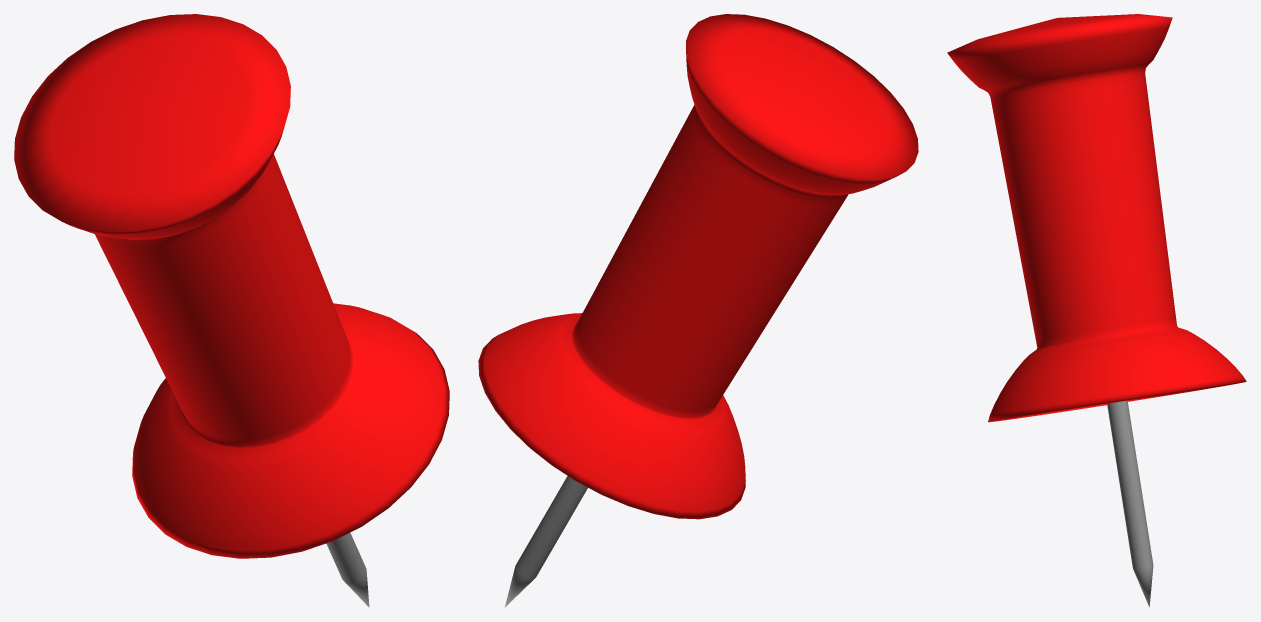
3 renders of one model, left to right at view 1: azimuth 30°, elevation 25°; view 2: azimuth 150°, elevation 25°; view 3: azimuth 270°, elevation 25°, orthographic. The views are drawn at different scales.
Parts seen in each view (by area): view 1: Pin; view 2: Pin; view 3: Pin.
Boxes of the visible parts, bbox=[...] form: Pin: bbox=[14, 14, 449, 607]; Pin: bbox=[478, 14, 918, 607]; Pin: bbox=[947, 14, 1246, 607].
Size of the model in its own units: 0.8664 by 1.29 by 0.6831.
